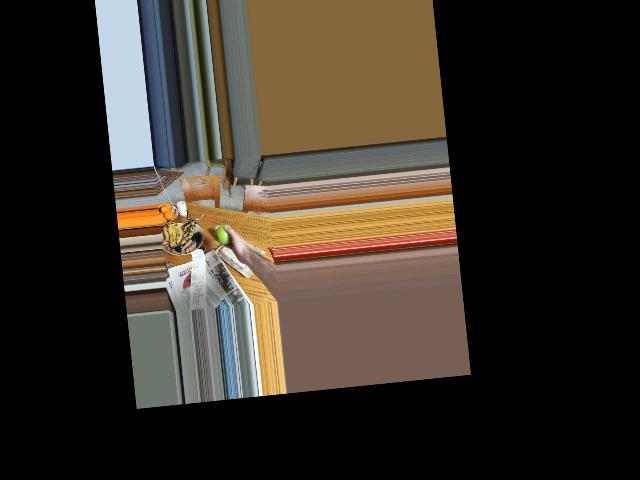apple: (214, 222, 236, 247)
